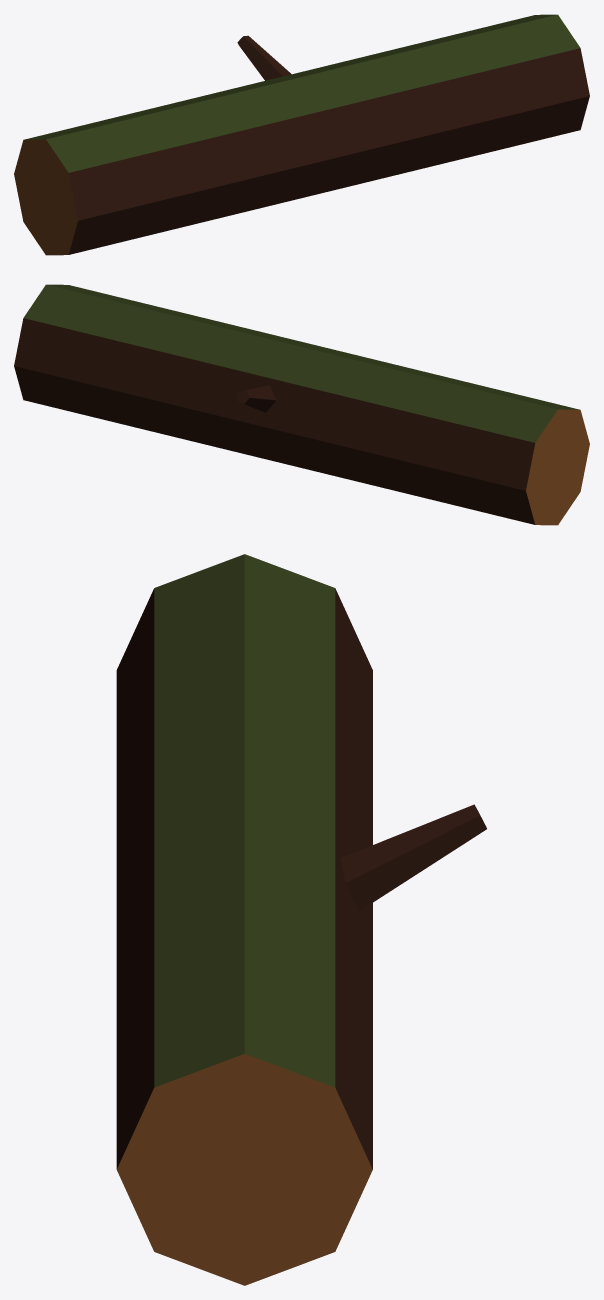
Rendered from Log_Mossy_01.fbx.
The picture shows the model from 3 angles, top to bottom: view 1: azimuth 30°, elevation 25°; view 2: azimuth 150°, elevation 25°; view 3: azimuth 270°, elevation 25°; orthographic projection. The views are drawn at different scales.
Parts seen in each view (by area): view 1: Log_Mossy_01_Mesh; view 2: Log_Mossy_01_Mesh; view 3: Log_Mossy_01_Mesh.
Boxes of the visible parts, bbox=[...] form: Log_Mossy_01_Mesh: bbox=[14, 14, 589, 255]; Log_Mossy_01_Mesh: bbox=[14, 284, 589, 525]; Log_Mossy_01_Mesh: bbox=[116, 554, 486, 1285].
Bounding box in the file's own units: 2.4 × 0.52 × 0.7523.
1 material, 1 textured.
